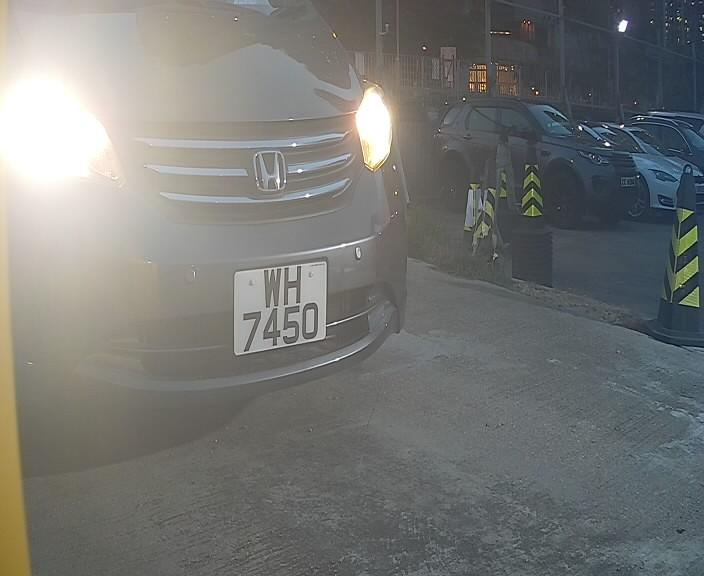License Plate: (221, 247, 343, 366)
